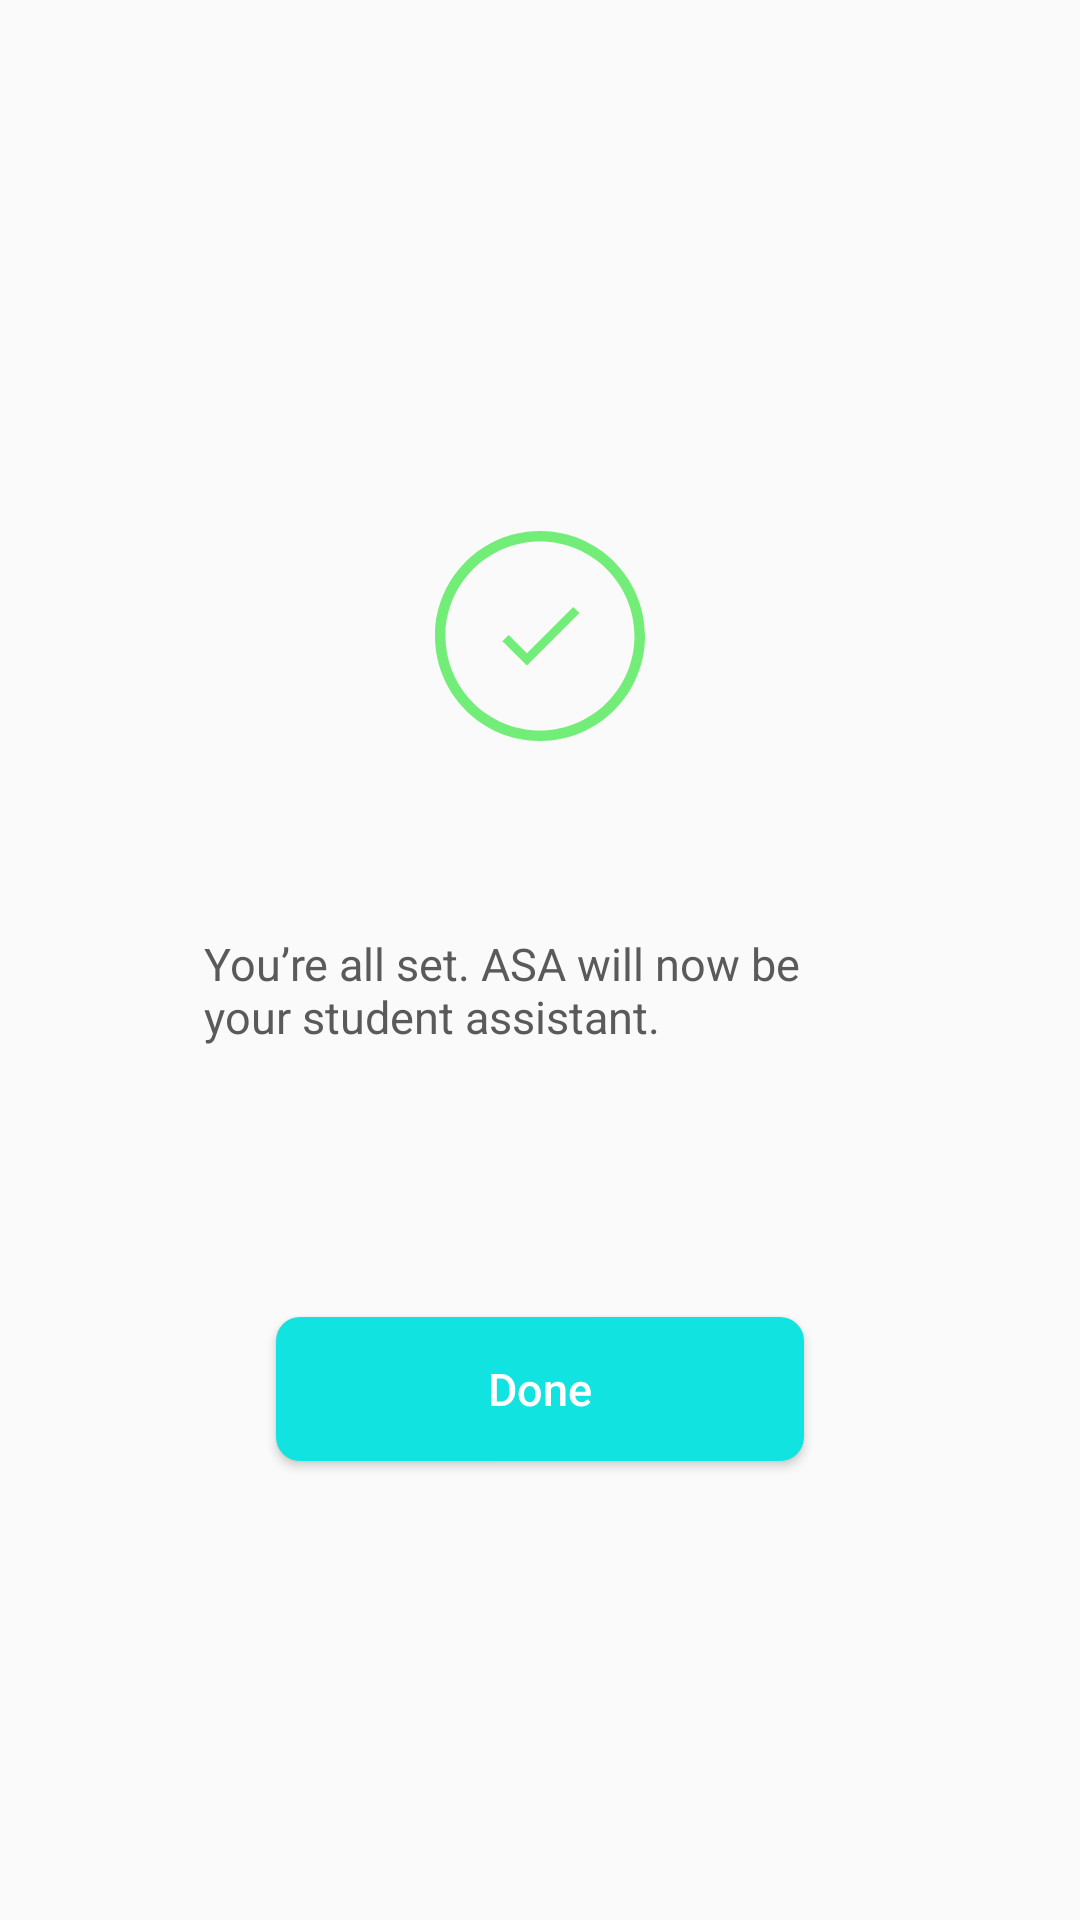

Locate icon controls on the screen. Image size 1080px x 1920px, boxes as bbox(x1, y1, x2, y2).
check: bbox(502, 607, 579, 666)
